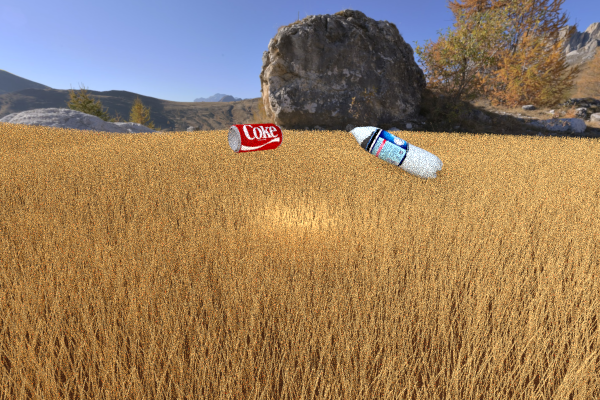bottle: (345, 123, 442, 180)
can: (227, 123, 283, 153)
